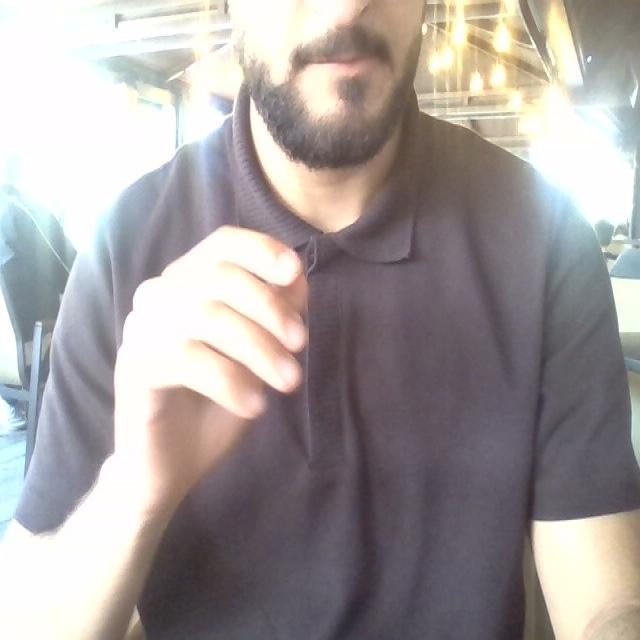Hand: (113, 227, 306, 515)
